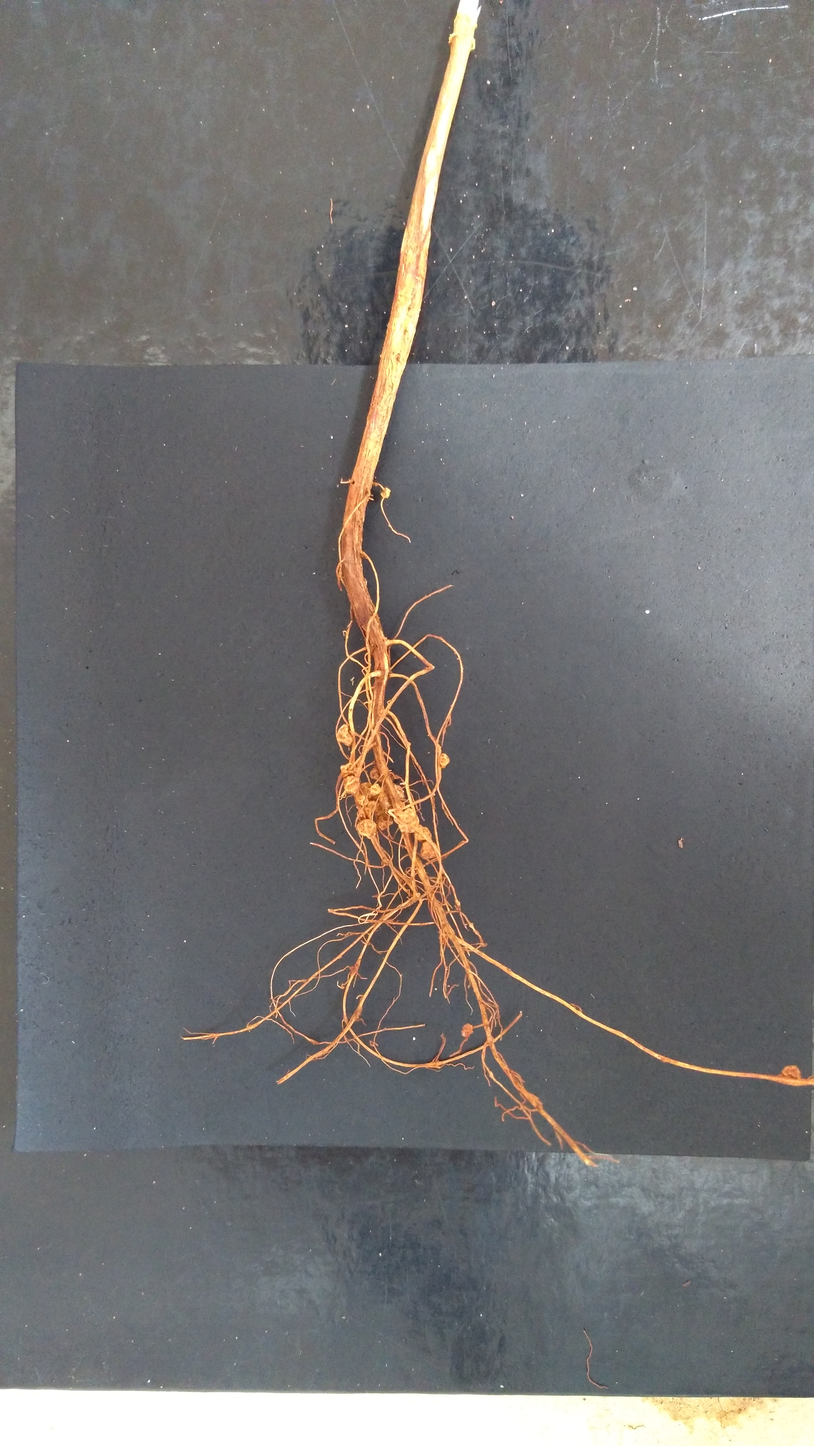nodule: (398, 807, 420, 834), (419, 839, 442, 862), (335, 723, 354, 748), (355, 818, 378, 838), (342, 775, 360, 796), (413, 824, 434, 842), (377, 813, 395, 832), (781, 1064, 802, 1080), (460, 1021, 475, 1039), (377, 792, 393, 808), (392, 783, 406, 800), (438, 752, 450, 771), (358, 781, 373, 796), (340, 762, 356, 775), (370, 764, 382, 781), (367, 798, 380, 812), (369, 783, 382, 796), (380, 486, 391, 499), (357, 794, 369, 805)
